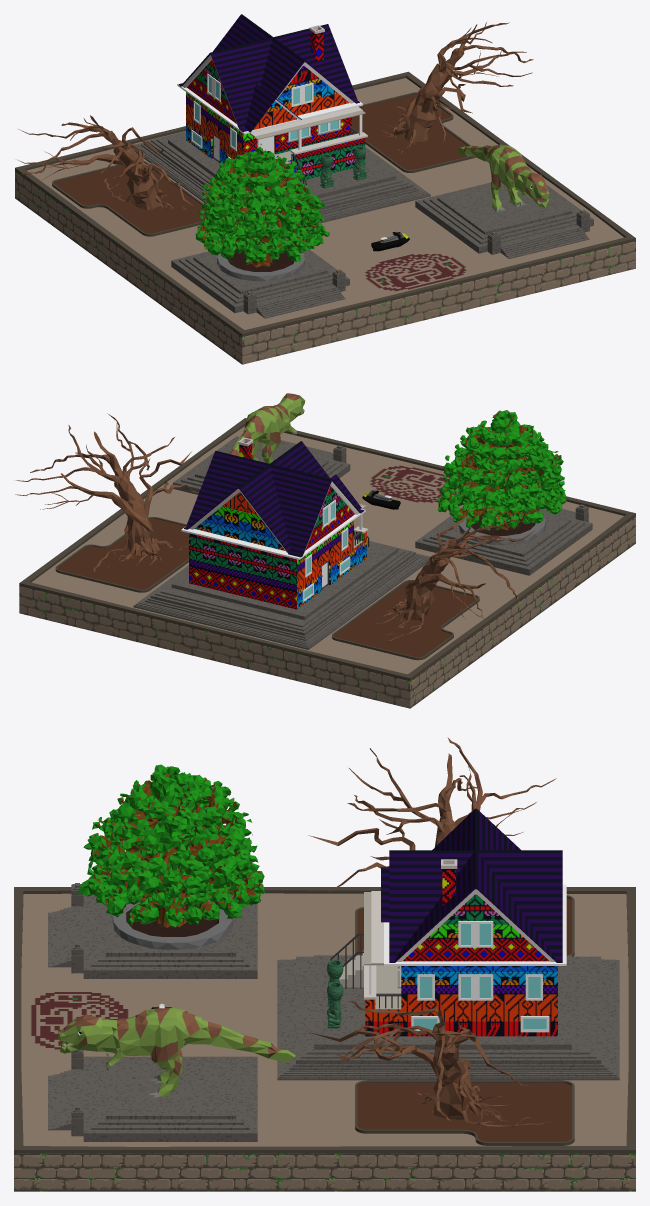
The picture shows the model from 3 angles, top to bottom: view 1: azimuth 30°, elevation 25°; view 2: azimuth 150°, elevation 25°; view 3: azimuth 270°, elevation 25°; orthographic projection. The views are drawn at different scales.
Parts seen in each view (by area): view 1: Cube.011, Cube.966, OBJRANDOM_CEIBA, ANIMAL_TREX; view 2: Cube.011, Cube.966, OBJRANDOM_CEIBA, ANIMAL_TREX, VEHICLES_WATERBIKE; view 3: Cube.011, Cube.966, OBJRANDOM_CEIBA, ANIMAL_TREX.
Part boxes in pixels (x1,y1,x2,y2): Cube.011: [15, 22, 635, 364]; Cube.966: [177, 14, 367, 185]; OBJRANDOM_CEIBA: [195, 146, 329, 281]; ANIMAL_TREX: [457, 144, 549, 212]; Cube.011: [14, 413, 635, 708]; Cube.966: [181, 437, 369, 609]; OBJRANDOM_CEIBA: [437, 410, 566, 544]; ANIMAL_TREX: [228, 393, 305, 463]; VEHICLES_WATERBIKE: [362, 490, 400, 509]; Cube.011: [14, 737, 635, 1191]; Cube.966: [330, 808, 566, 1036]; OBJRANDOM_CEIBA: [77, 764, 264, 949]; ANIMAL_TREX: [58, 1008, 295, 1097].
Bounding box in the file's own units: 5099 × 1812 × 4000.
36 materials, 9 textured.
